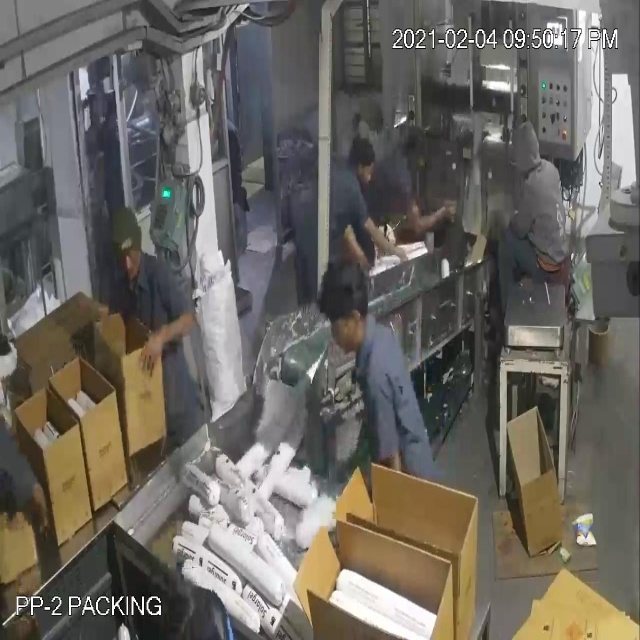Sin_guantes: (132, 310, 202, 380), (360, 205, 410, 277), (16, 473, 57, 545), (407, 193, 462, 244), (333, 220, 376, 276)
